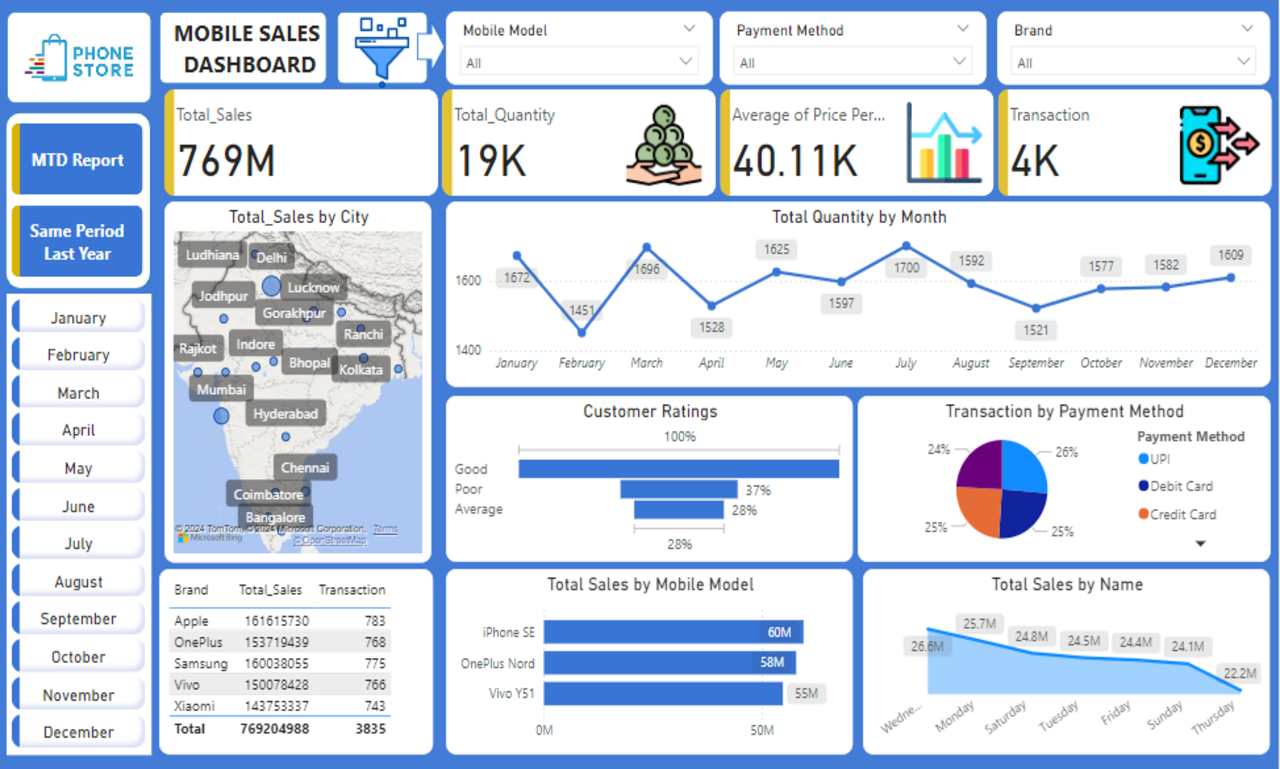

What the dashboard file says about the page in this screenshot:
{"tool":"powerbi","page":{"name":"Dashboard","canvas":[1280,720],"ordinal":0},"visuals":[{"type":"shape","box":[5.2,105.5,145.8,164.1],"z":0},{"type":"advancedSlicerVisual","fields":{"Values":["Custome_Calender.Date.Variation.Date Hierarchy.Month"]},"box":[6.6,273.7,144.7,427.6],"z":2000},{"type":"cardVisual","fields":{"Data":["Sales_Data.Total_Sales","Sales_Data.total quantity","Avg(Sales_Data.Price Per Unit)","Sales_Data.Transaction"]},"box":[159.4,78.4,1120.6,109.2],"z":3000},{"type":"slicer","fields":{"Values":["Sales_Data.Mobile Model"]},"box":[445.5,11.2,266.6,67.5],"z":4000},{"type":"slicer","fields":{"Values":["Sales_Data.Payment Method"]},"box":[720,11.2,266.6,67.5],"z":5000},{"type":"slicer","fields":{"Values":["Sales_Data.Brand"]},"box":[996.8,11.2,273.4,67.5],"z":6000},{"type":"shape","box":[336.4,11.2,91.1,67.5],"z":7000},{"type":"image","box":[298.1,11.2,167.6,76.5],"z":8000},{"type":"shape","box":[417.4,20.2,28.1,49.5],"z":9000},{"type":"shape","box":[6.8,11.2,145.1,85.5],"z":10000},{"type":"shape","box":[159.8,11.2,167.6,67.5],"z":11000},{"type":"textbox","box":[117,11.2,265.5,67.5],"z":12000},{"type":"map","fields":{"Category":["Sales_Data.City"],"Size":["Sales_Data.Total_Sales"]},"box":[164.5,187.6,267.3,335.4],"z":13000},{"type":"lineChart","title":"Total Quantity by Month","fields":{"Category":["Custome_Calender.Date.Variation.Date Hierarchy.Month"],"Y":["Sales_Data.total quantity"]},"box":[445.9,187.6,825.1,172.2],"z":14000},{"type":"funnel","title":"Customer Ratings","fields":{"Category":["Sales_Data.Ratings"],"Y":["CountNonNull(Sales_Data.Customer Ratings)"]},"box":[445.9,368.8,407.4,154.2],"z":15000},{"type":"pieChart","fields":{"Y":["Sales_Data.Transaction"],"Category":["Sales_Data.Payment Method"]},"box":[858.5,368.8,412.5,154.2],"z":16000},{"type":"clusteredBarChart","title":"Total Sales by Mobile Model","fields":{"Category":["Sales_Data.Mobile Model"],"Y":["Sales_Data.Total_Sales"]},"box":[445.9,529.5,407.4,172.2],"z":17000},{"type":"areaChart","title":"Total Sales by Name","fields":{"Category":["Custome_Calender.Day Name"],"Y":["Sales_Data.Total_Sales"]},"box":[863.6,529.5,407.4,172.2],"z":18000},{"type":"tableEx","fields":{"Values":["Sales_Data.Brand","Sales_Data.Total_Sales","Sales_Data.Transaction"]},"box":[159.4,529.5,273.7,172.2],"z":19000},{"type":"pageNavigator","box":[11.8,115.8,131.6,143.4],"z":19001},{"type":"image","box":[3.9,0,152,118],"z":19002}]}

Visuals, with their boxes on the page's 1280x720 design canvas (x1, y1, x2, y2). These are canvas units, not pixel positions in the 1280x769 screenshot, which may show the page scaled, cropped or inside an application window:
shape: x1=5 y1=106 x2=151 y2=270
advancedSlicerVisual - Custome_Calender.Date.Variation.Date Hierarchy.Month: x1=7 y1=274 x2=151 y2=701
cardVisual - Sales_Data.Total_Sales x Sales_Data.total quantity: x1=159 y1=78 x2=1280 y2=188
slicer - Sales_Data.Mobile Model: x1=446 y1=11 x2=712 y2=79
slicer - Sales_Data.Payment Method: x1=720 y1=11 x2=987 y2=79
slicer - Sales_Data.Brand: x1=997 y1=11 x2=1270 y2=79
shape: x1=336 y1=11 x2=428 y2=79
image: x1=298 y1=11 x2=466 y2=88
shape: x1=417 y1=20 x2=446 y2=70
shape: x1=7 y1=11 x2=152 y2=97
shape: x1=160 y1=11 x2=327 y2=79
textbox: x1=117 y1=11 x2=382 y2=79
map - Sales_Data.City x Sales_Data.Total_Sales: x1=164 y1=188 x2=432 y2=523
"Total Quantity by Month" lineChart: x1=446 y1=188 x2=1271 y2=360
"Customer Ratings" funnel: x1=446 y1=369 x2=853 y2=523
pieChart - Sales_Data.Transaction x Sales_Data.Payment Method: x1=858 y1=369 x2=1271 y2=523
"Total Sales by Mobile Model" clusteredBarChart: x1=446 y1=530 x2=853 y2=702
"Total Sales by Name" areaChart: x1=864 y1=530 x2=1271 y2=702
tableEx - Sales_Data.Brand x Sales_Data.Total_Sales: x1=159 y1=530 x2=433 y2=702
pageNavigator: x1=12 y1=116 x2=143 y2=259
image: x1=4 y1=0 x2=156 y2=118
